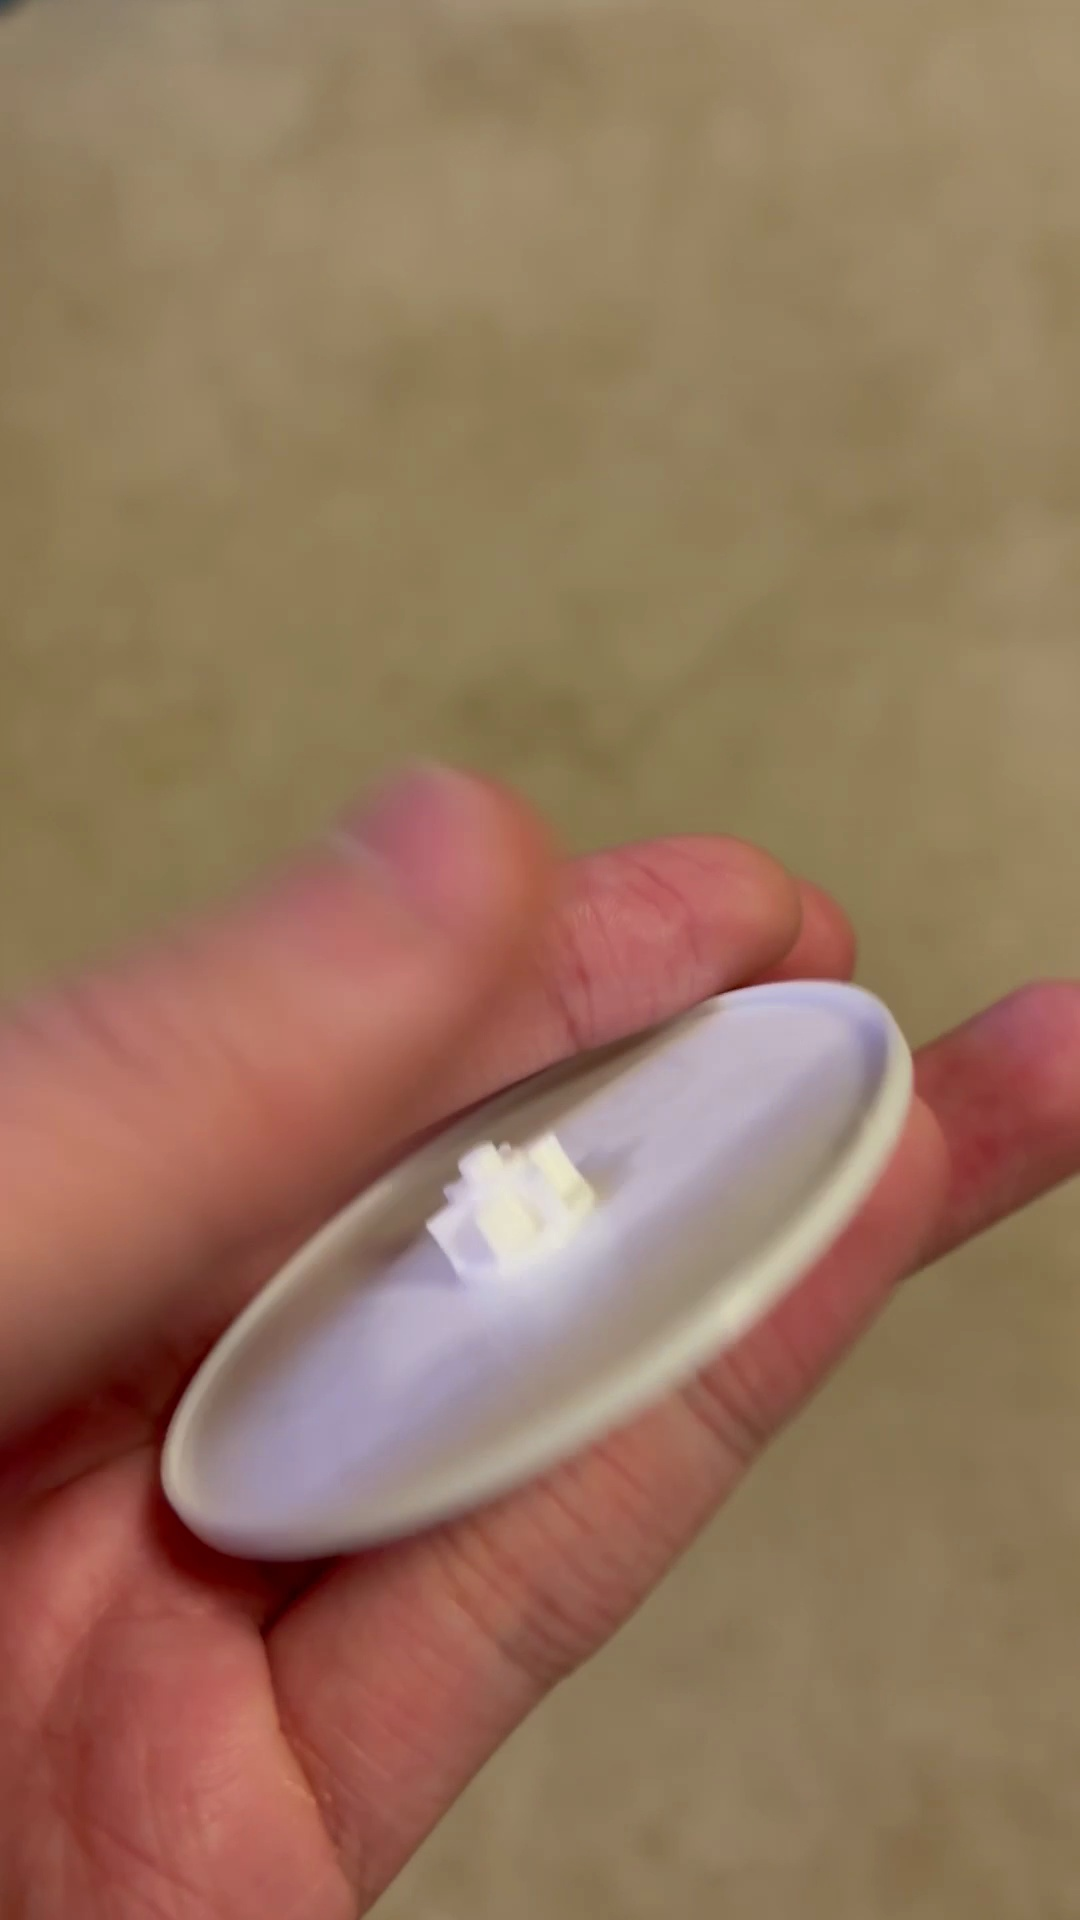Part1: (161, 982, 910, 1559)
